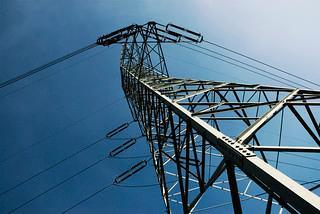power_tower: (97, 21, 320, 214)
